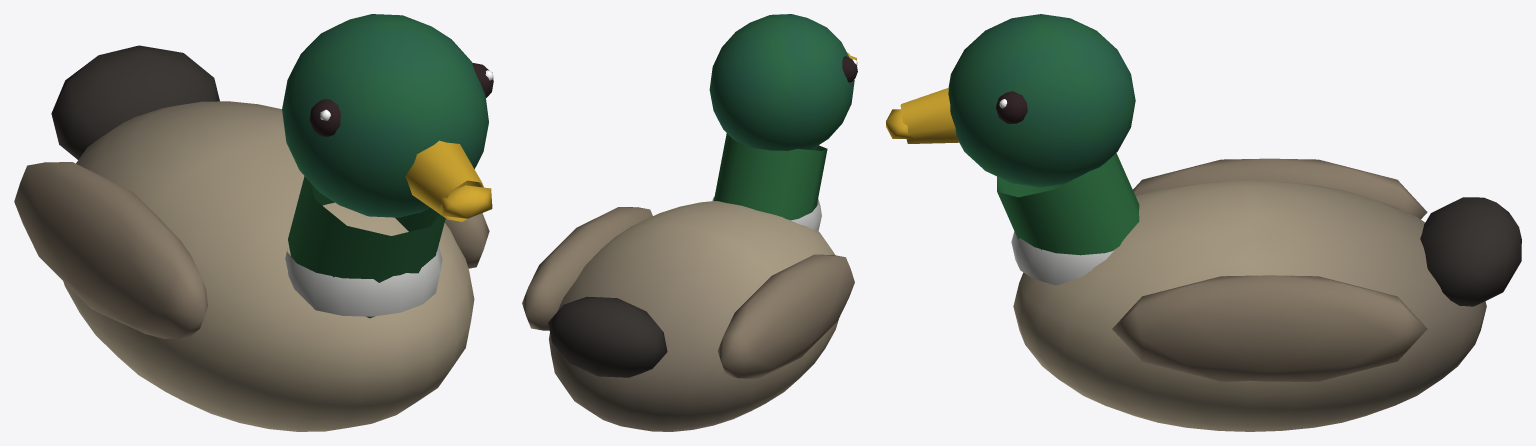
The model's file is critter_duck.glb.
3 renders of one model, left to right at view 1: azimuth 30°, elevation 25°; view 2: azimuth 150°, elevation 25°; view 3: azimuth 270°, elevation 25°, orthographic. The views are drawn at different scales.
Parts seen in each view (by area): view 1: duck_body, duck_eye_l; view 2: duck_body; view 3: duck_body, duck_eye_r.
Boxes of the visible parts, bbox=[...] form: duck_body: bbox=[14, 14, 492, 431]; duck_eye_l: bbox=[309, 99, 340, 136]; duck_body: bbox=[522, 14, 856, 431]; duck_body: bbox=[886, 14, 1521, 431]; duck_eye_r: bbox=[995, 91, 1027, 123].
Bounding box in the file's own units: 0.178 × 0.219 × 0.3223.
